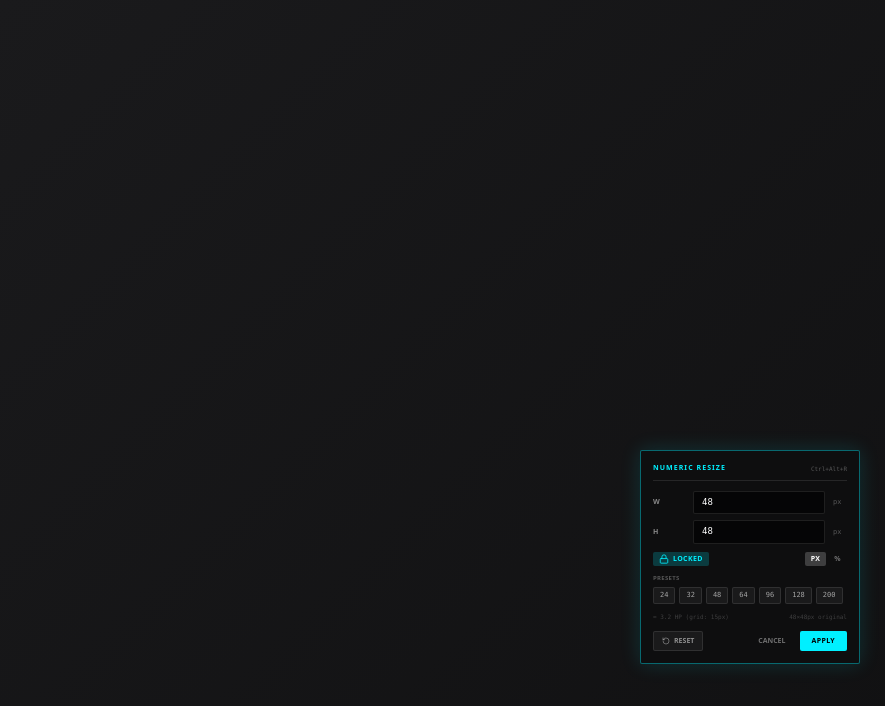
NumericResizePopover — validation › should clear error on input change
Replace the text in the field named "Width in pixels" with "abc" at (759, 502), box [693,490,825,514]
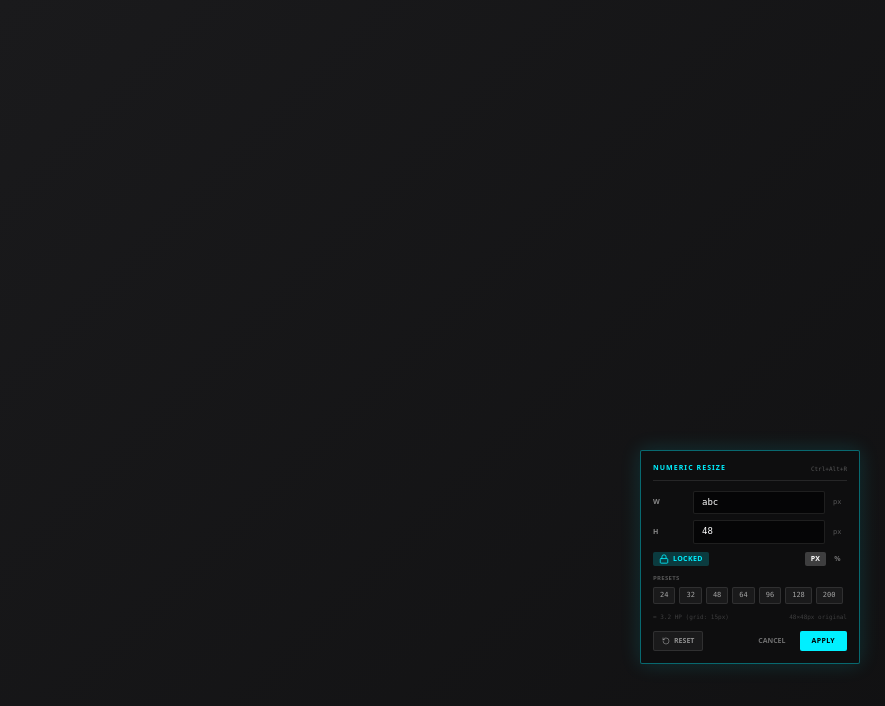
Click the button "Apply" at (823, 641), box [800,630,847,651]
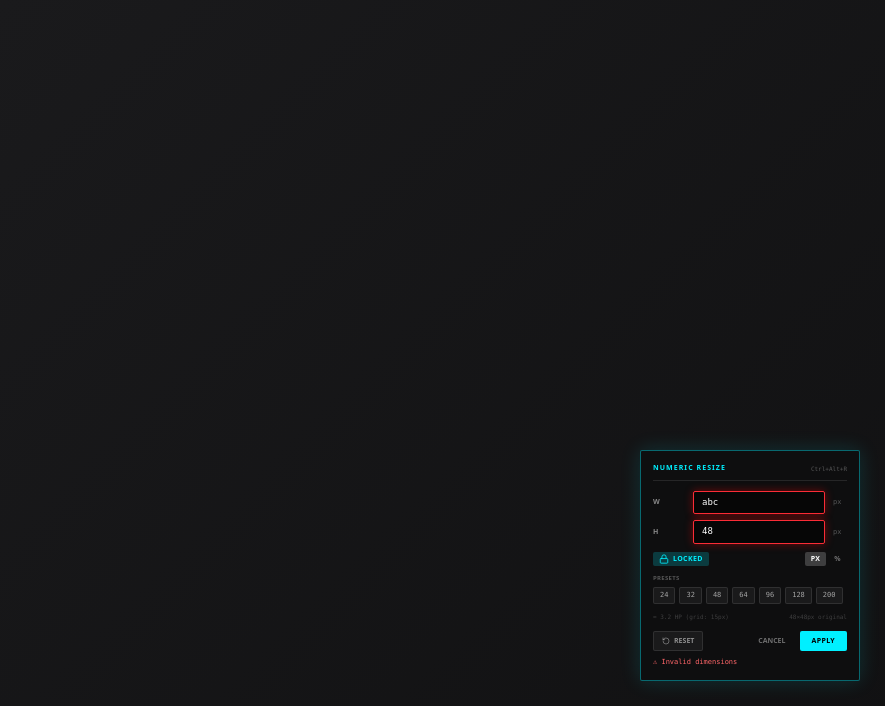
expect the text "⚠ Invalid dimensions" is shown: met, box [653,658,737,666]
Replace the text in the field named "Width in pixels" with "100" at (759, 502), box [693,490,825,514]
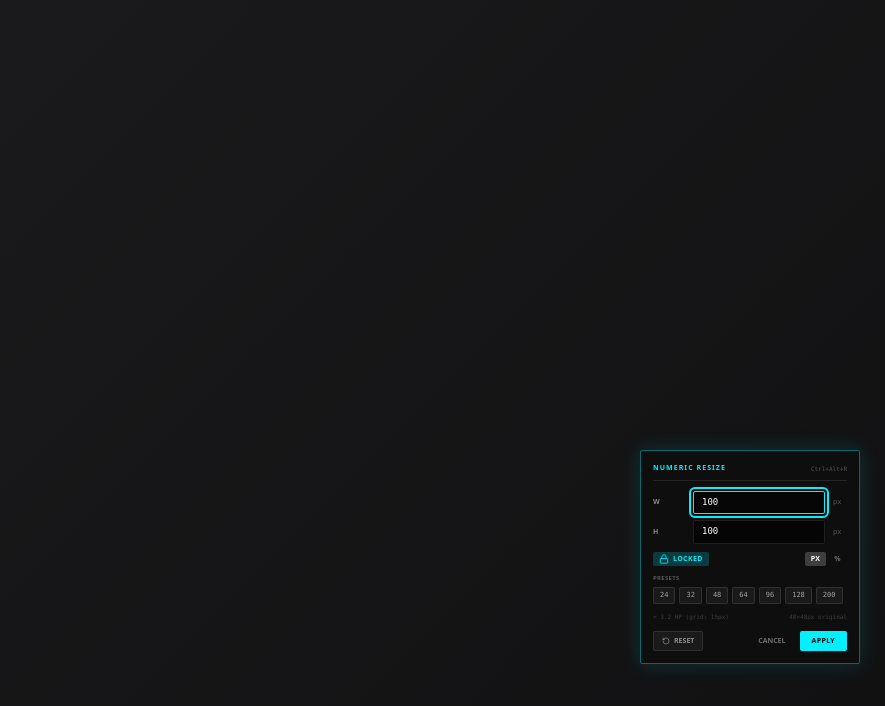
expect the text "Invalid" is gone: met
